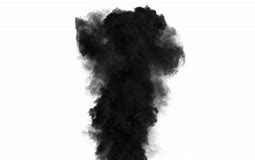smoke: (73, 4, 183, 160)
